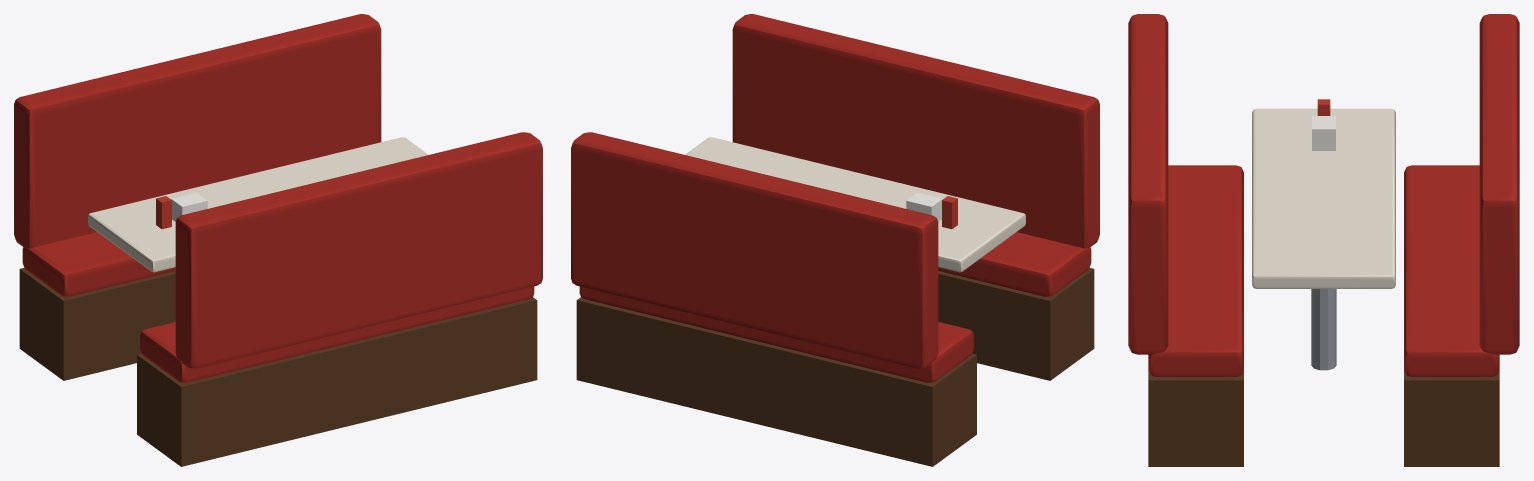
Rendered from booth.glb.
The picture shows the model from 3 angles, left to right: view 1: azimuth 30°, elevation 25°; view 2: azimuth 150°, elevation 25°; view 3: azimuth 270°, elevation 25°; orthographic projection. The views are drawn at different scales.
Visible parts, largest first — view 1: part-upholstery, part-booth-frame, part-table-top, part-napkins; view 2: part-upholstery, part-booth-frame, part-table-top, part-napkins; view 3: part-upholstery, part-table-top, part-booth-frame, part-steel, part-napkins.
Part boxes in pixels (left/top/right/bottom): part-upholstery: left=14, top=14, right=542, bottom=382; part-booth-frame: left=19, top=267, right=537, bottom=466; part-table-top: left=88, top=137, right=428, bottom=272; part-napkins: left=171, top=192, right=207, bottom=221; part-upholstery: left=571, top=14, right=1099, bottom=382; part-booth-frame: left=576, top=267, right=1094, bottom=466; part-table-top: left=685, top=137, right=1025, bottom=272; part-napkins: left=906, top=192, right=942, bottom=221; part-upholstery: left=1128, top=14, right=1519, bottom=376; part-table-top: left=1252, top=108, right=1395, bottom=288; part-booth-frame: left=1148, top=370, right=1499, bottom=466; part-steel: left=1311, top=289, right=1336, bottom=370; part-napkins: left=1312, top=116, right=1335, bottom=150.
Bounding box in the file's own units: 56 × 37 × 49.
